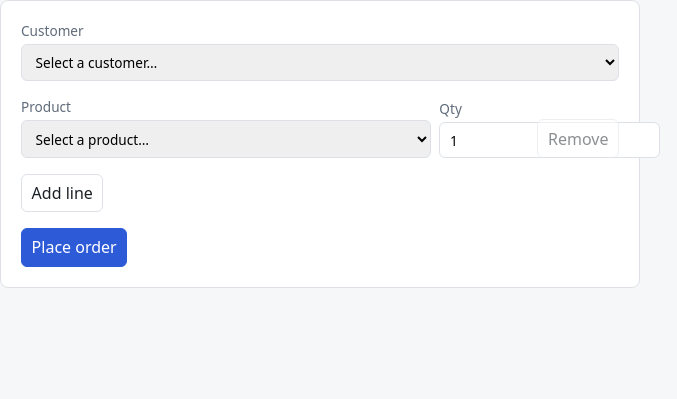
Test: NewOrderForm › confirms a placed order
Select "Alice Moreno" in the dropdown labelled "Customer" at point(320, 63), box [21, 44, 619, 81]
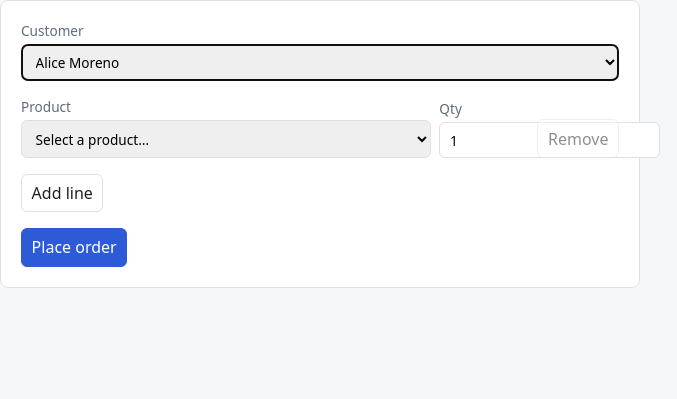
Select "Mug ($10.00, 4 in stock)" in the dropdown labelled "Product" at point(226, 139), box [21, 120, 431, 158]
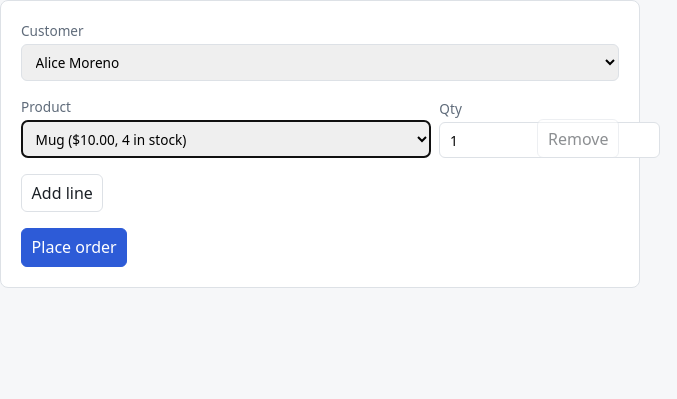
Click the button "Place order" at point(74, 247), box [21, 228, 127, 266]
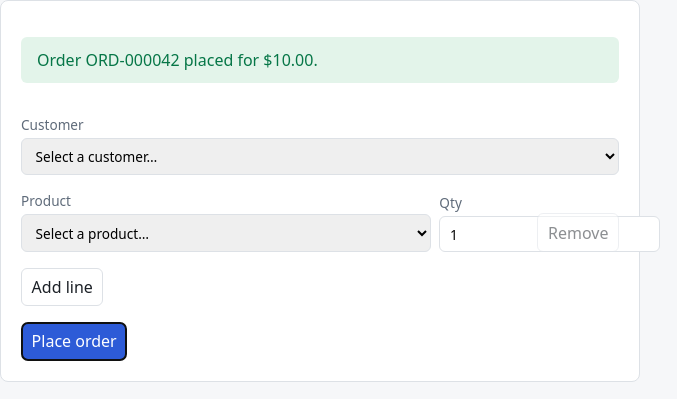
Result: the message shows "ORD-000042" at [37, 49, 318, 71]
